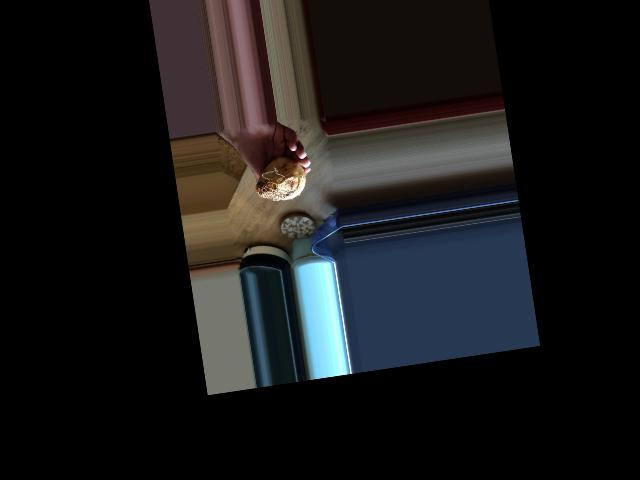onion: (255, 153, 310, 208)
